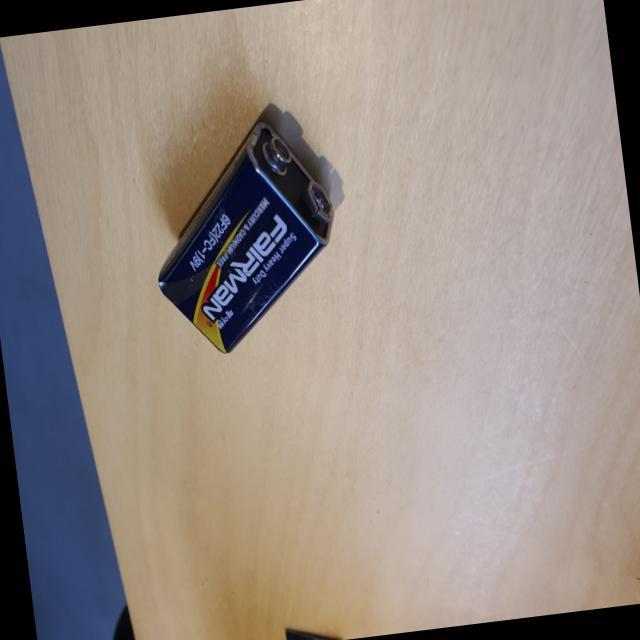battery-etc-etc: (115, 112, 361, 375)
